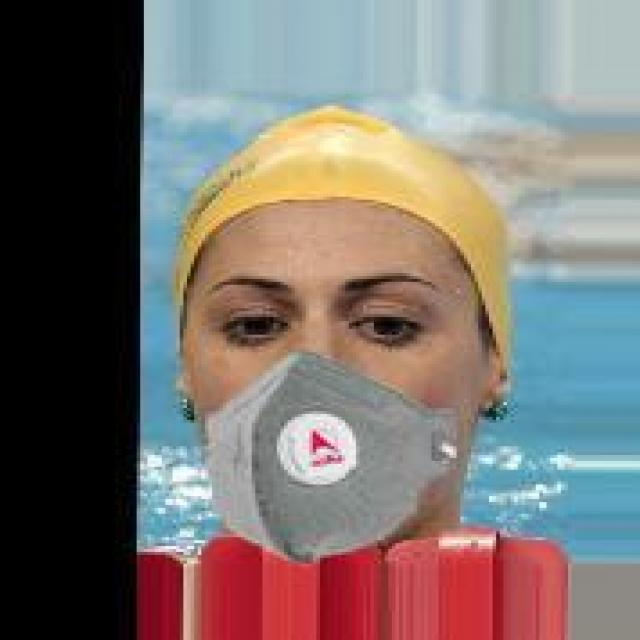mask: (169, 94, 536, 540)
